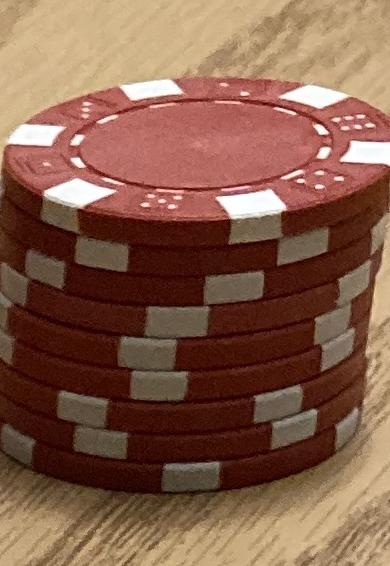Chip: (1, 1, 390, 566)
